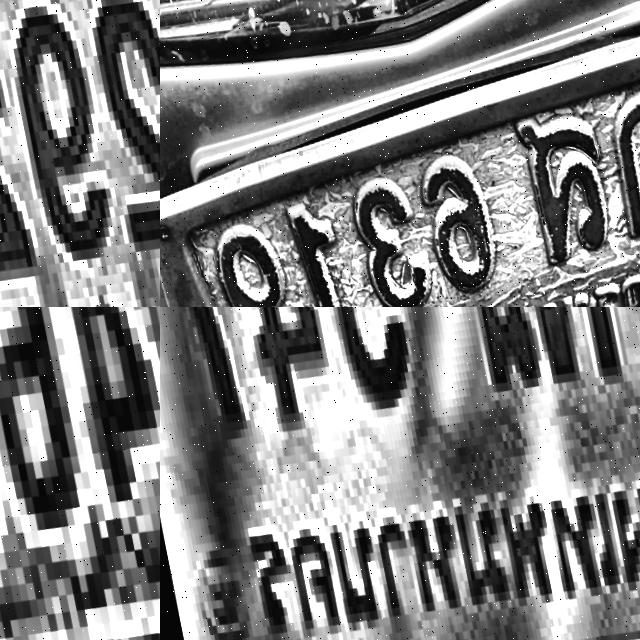license-plate: (160, 307, 640, 640), (160, 0, 640, 307), (0, 307, 160, 640), (0, 0, 160, 307)
